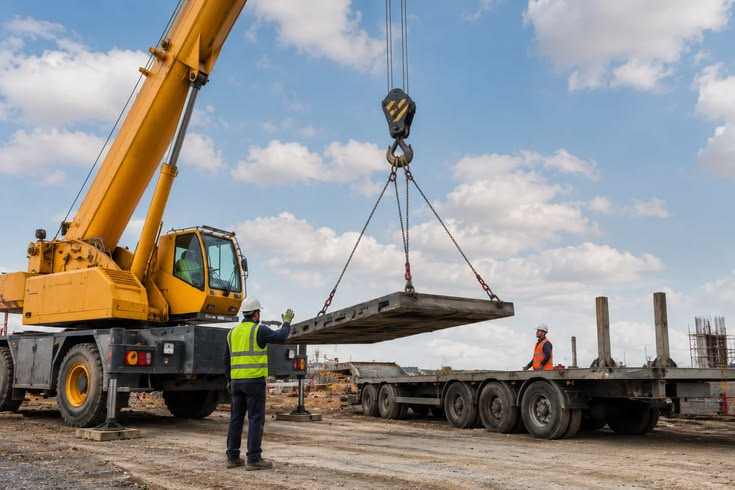crane: (8, 7, 523, 388)
hardhat: (235, 295, 272, 322), (535, 316, 562, 338)
person: (209, 287, 303, 471), (514, 312, 581, 406)
safety_vest: (228, 323, 270, 388), (534, 337, 554, 372)
